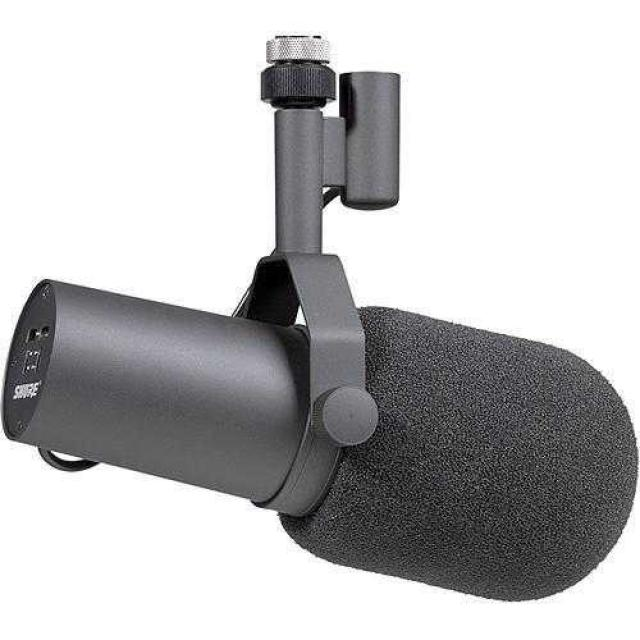microphone: (0, 276, 636, 604)
